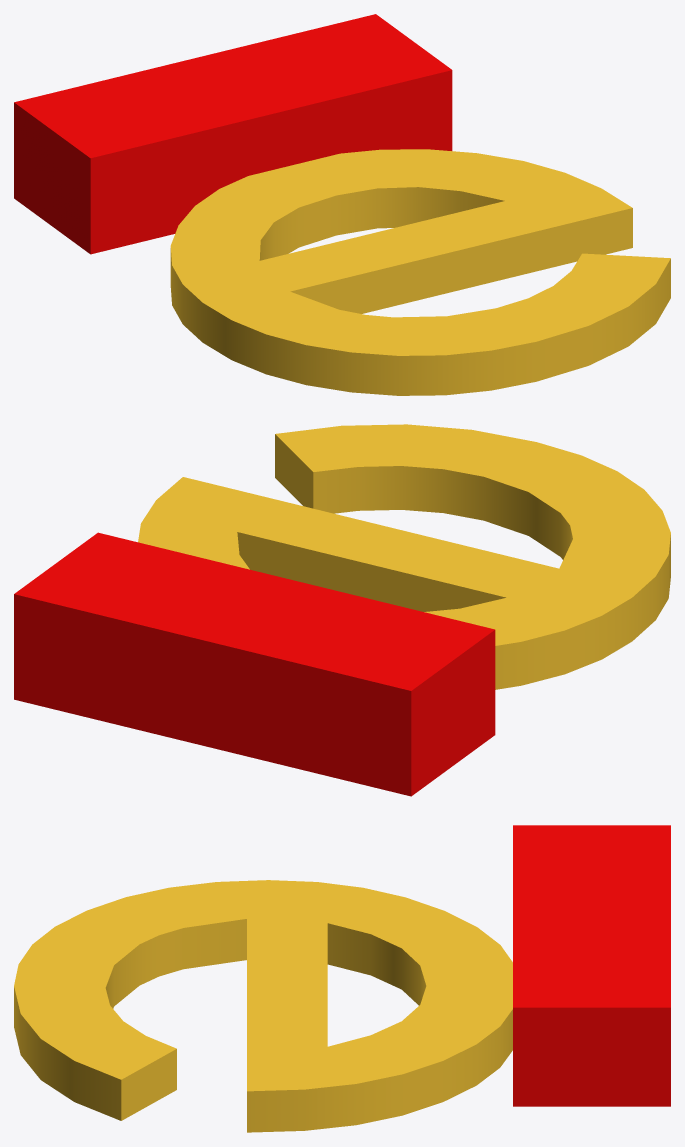
File: electron3d.fbx
3 renders of one model, top to bottom at view 1: azimuth 30°, elevation 25°; view 2: azimuth 150°, elevation 25°; view 3: azimuth 270°, elevation 25°, orthographic. The views are drawn at different scales.
Parts seen in each view (by area): view 1: e1, Model; view 2: Model, e1; view 3: e1, Model.
Part boxes in pixels (box(x1,y1,x2,y2)): e1: box(170, 149, 670, 395); Model: box(14, 14, 452, 254); Model: box(14, 532, 495, 796); e1: box(138, 424, 670, 689); e1: box(14, 880, 512, 1132); Model: box(513, 825, 670, 1106).
Size of the model in its own units: 4.57 by 1 by 6.01.
